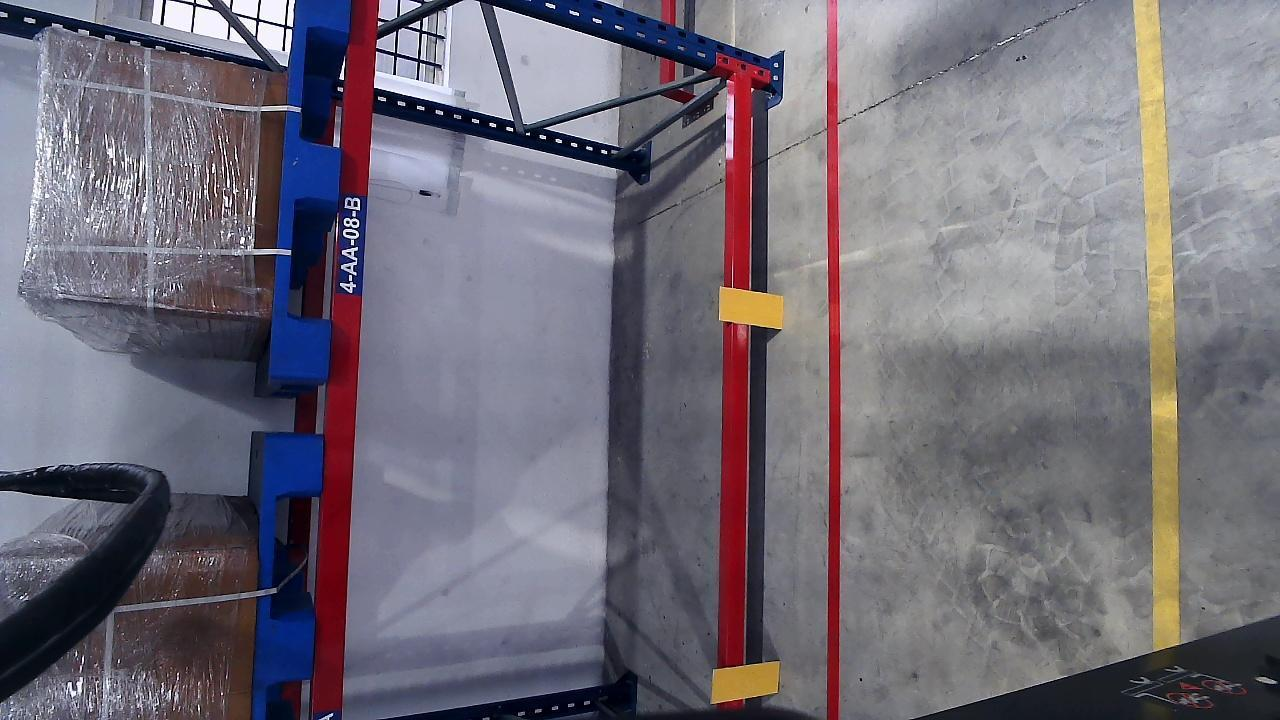red_line: (253, 432, 326, 720), (822, 0, 844, 720)
yellow_line: (1135, 0, 1181, 652)
